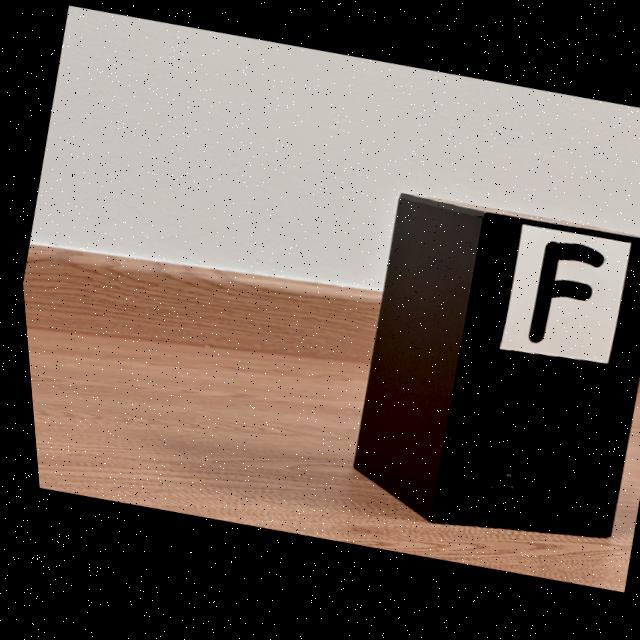F: (522, 248, 599, 350)
